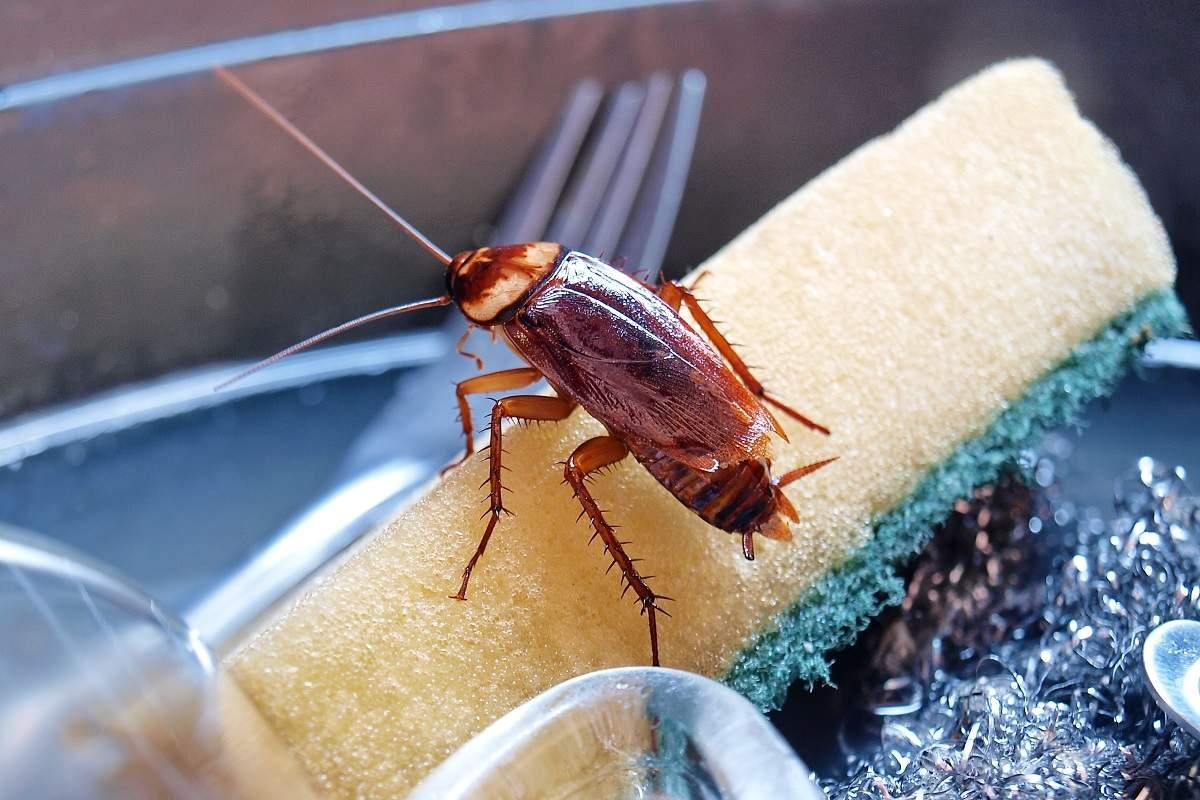cockroach: (433, 225, 803, 607)
